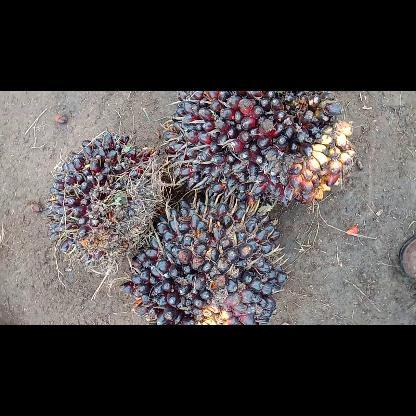TBS mentah: (159, 91, 359, 213), (118, 196, 288, 324), (42, 128, 166, 272)
